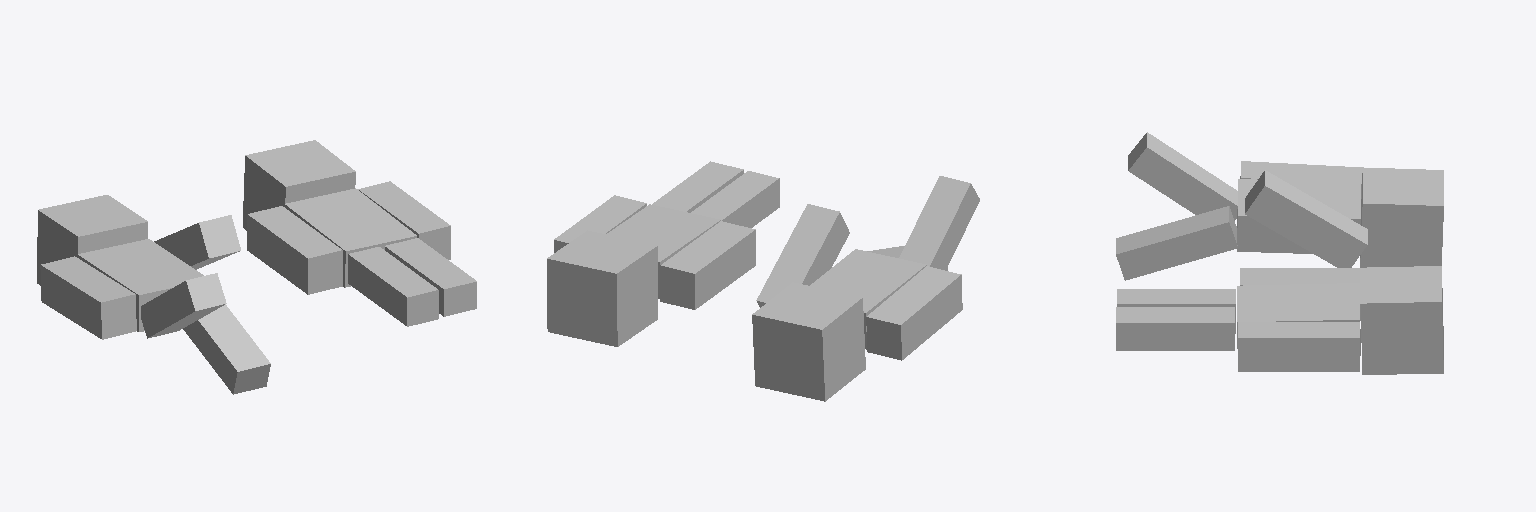
Rendered from steve_000011.obj.
3 renders of one model, left to right at view 1: azimuth 30°, elevation 25°; view 2: azimuth 150°, elevation 25°; view 3: azimuth 270°, elevation 25°, orthographic.
Visible parts, largest first — view 1: Cube.001_Cube.002, Cube_Cube.001; view 2: Cube_Cube.001, Cube.001_Cube.002; view 3: Cube_Cube.001, Cube.001_Cube.002.
Part boxes in pixels (x1,y1,x2,y2): Cube.001_Cube.002: (243, 140, 476, 326); Cube_Cube.001: (37, 195, 270, 394); Cube_Cube.001: (752, 176, 979, 401); Cube.001_Cube.002: (547, 161, 779, 346); Cube_Cube.001: (1116, 132, 1443, 280); Cube.001_Cube.002: (1116, 266, 1443, 374).
Bounding box in the file's own units: 6.55 × 2.07 × 5.35.